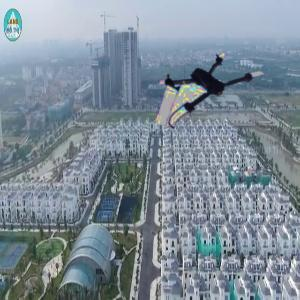drone: (161, 36, 264, 139)
